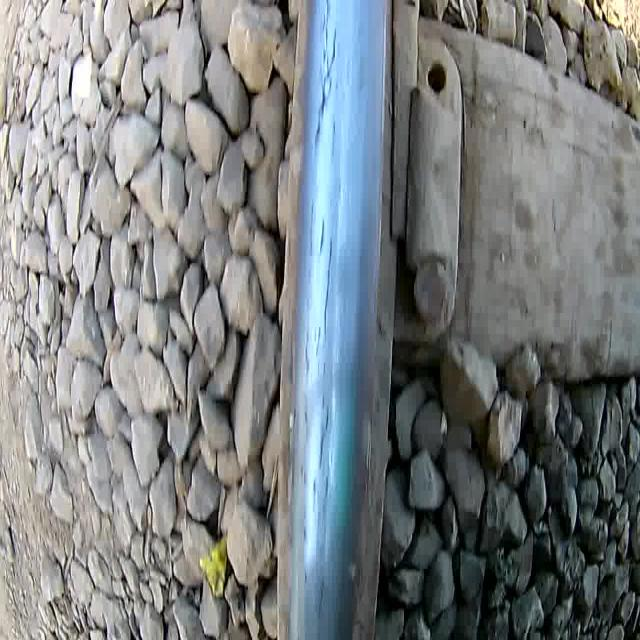Cracks: (300, 193, 337, 379), (312, 0, 341, 160), (310, 389, 334, 521), (314, 565, 328, 630)
